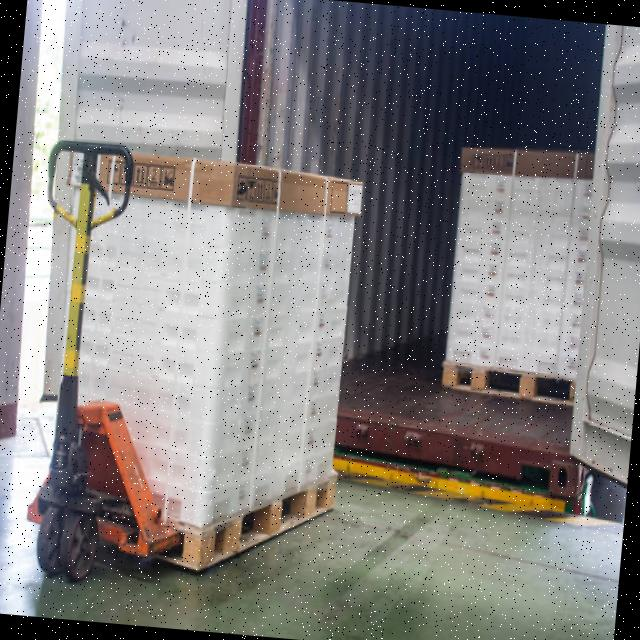Wooden-Pallets: (166, 471, 338, 571), (441, 361, 574, 403)
